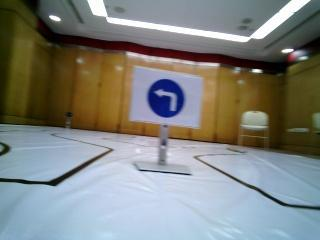left: (134, 74, 198, 126)
